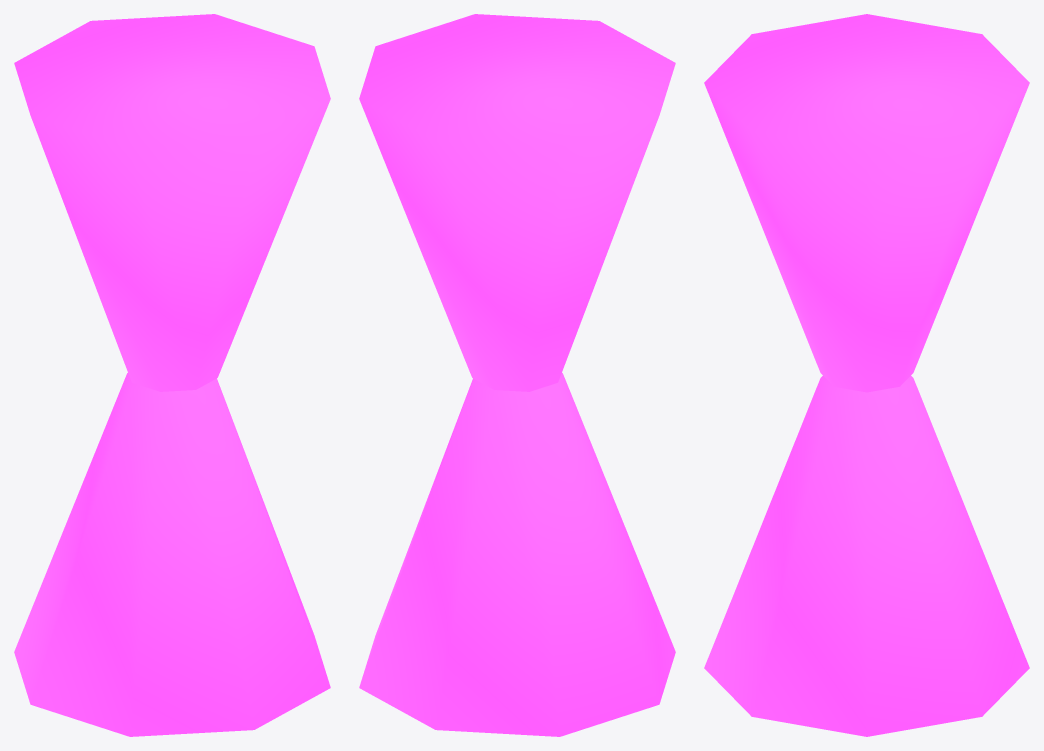
Rendered from TrafficCurse.fbx.
3 views of the same model, side by side, from view 1: azimuth 30°, elevation 25°; view 2: azimuth 150°, elevation 25°; view 3: azimuth 270°, elevation 25° (orthographic).
Visible parts, largest first — view 1: VFX_TrafficCurse; view 2: VFX_TrafficCurse; view 3: VFX_TrafficCurse.
Boxes of the visible parts, x1,y1,x2,y2 form: VFX_TrafficCurse: (14, 14, 330, 736); VFX_TrafficCurse: (359, 14, 675, 736); VFX_TrafficCurse: (704, 14, 1029, 736).
Size of the model in its own units: 0.56 by 1.11 by 0.56.
